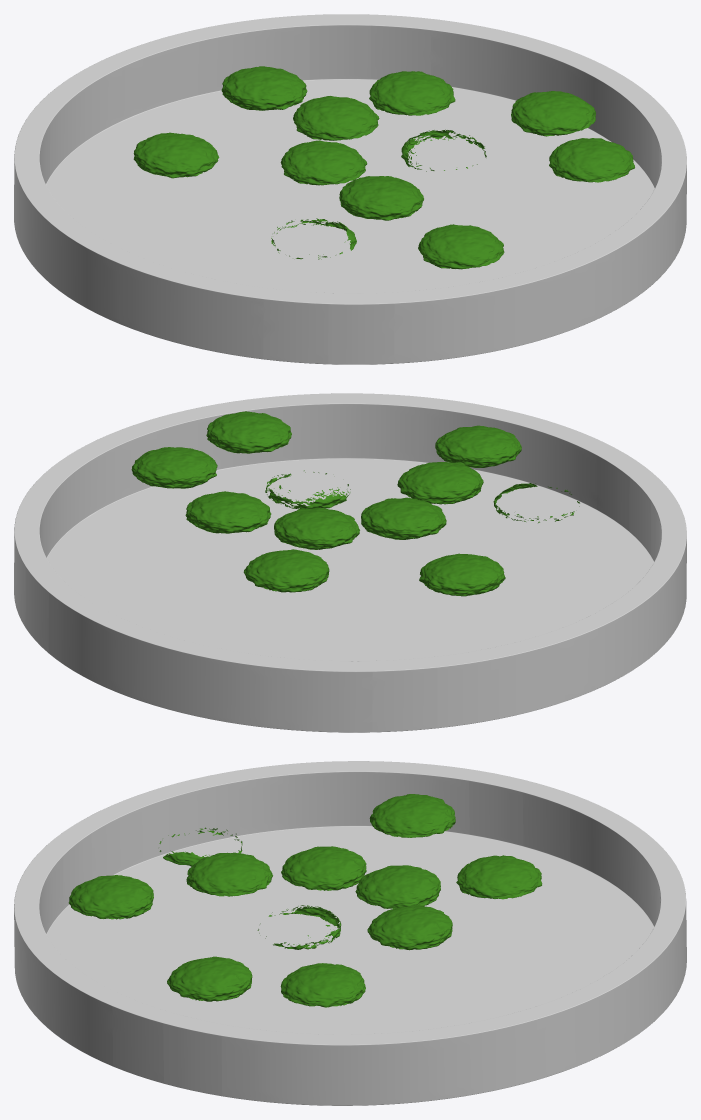
Rendered from petri-dish.glb.
The picture shows the model from 3 angles, top to bottom: view 1: azimuth 30°, elevation 25°; view 2: azimuth 150°, elevation 25°; view 3: azimuth 270°, elevation 25°; orthographic projection.
Visible parts, largest first — view 1: Cylinder.004_Scratched Glass_0, Λοψομονδο; view 2: Cylinder.004_Scratched Glass_0, Λοψομονδο; view 3: Cylinder.004_Scratched Glass_0, Λοψομονδο.
Part boxes in pixels (x1,y1,x2,y2): Cylinder.004_Scratched Glass_0: [14, 14, 686, 364]; Λοψομονδο: [133, 66, 634, 269]; Cylinder.004_Scratched Glass_0: [14, 393, 686, 732]; Λοψομονδο: [131, 411, 579, 596]; Cylinder.004_Scratched Glass_0: [14, 761, 686, 1105]; Λοψομονδο: [68, 794, 542, 1007].
Bounding box in the file's own units: 361 × 57.94 × 362.
